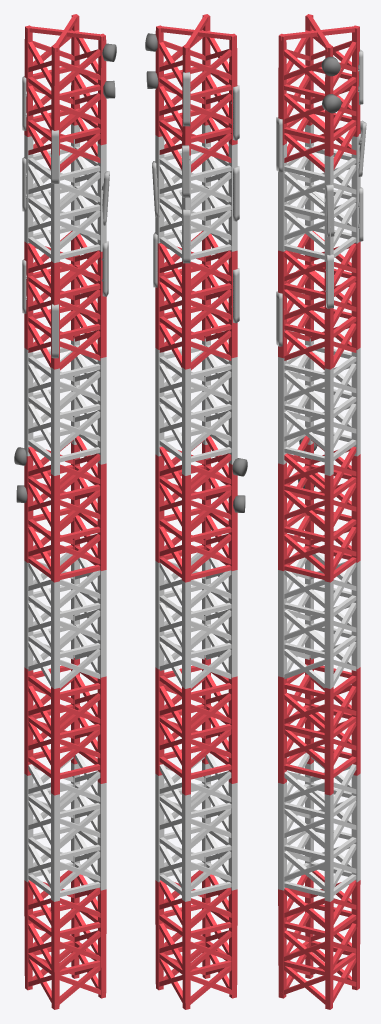
The model's file is masto_120m_LOD01.gltf.
3 renders of one model, left to right at view 1: azimuth 30°, elevation 25°; view 2: azimuth 210°, elevation 25°; view 3: azimuth 330°, elevation 25°, orthographic.
Parts seen in each view (by area): view 1: masto_120m.001; view 2: masto_120m.001; view 3: masto_120m.001.
Part boxes in pixels (x1,y1,x2,y2): masto_120m.001: (14, 14, 116, 1009); masto_120m.001: (145, 14, 247, 1009); masto_120m.001: (276, 14, 366, 1009).
Size of the model in its own units: 9.49 by 121 by 9.6.
